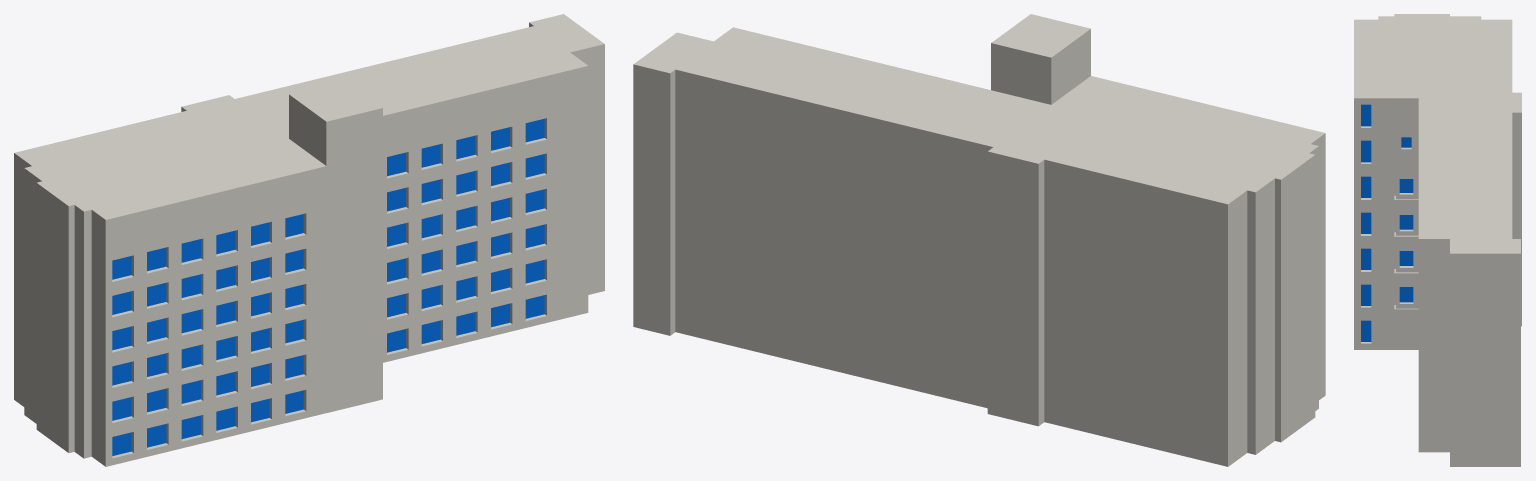
Rendered from 4공학관.fbx.
3 views of the same model, side by side, from view 1: azimuth 30°, elevation 25°; view 2: azimuth 150°, elevation 25°; view 3: azimuth 270°, elevation 25° (orthographic). The views are drawn at different scales.
Parts seen in each view (by area): view 1: Cube, Cube_70, Cube_69; view 2: Cube; view 3: Cube, Cube_71.
Part boxes in pixels (x1,y1,x2,y2): Cube: [14, 14, 604, 466]; Cube_70: [112, 214, 303, 455]; Cube_69: [387, 118, 544, 352]; Cube: [633, 14, 1325, 466]; Cube: [1354, 14, 1521, 466]; Cube_71: [1361, 104, 1413, 341].
Bounding box in the file's own units: 1208 × 592 × 358.
